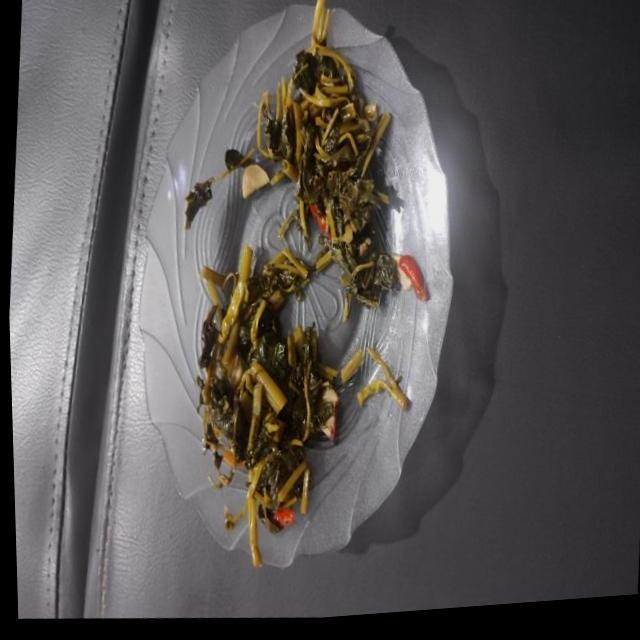tumis_kangkung: (257, 0, 429, 320), (199, 245, 363, 566)
